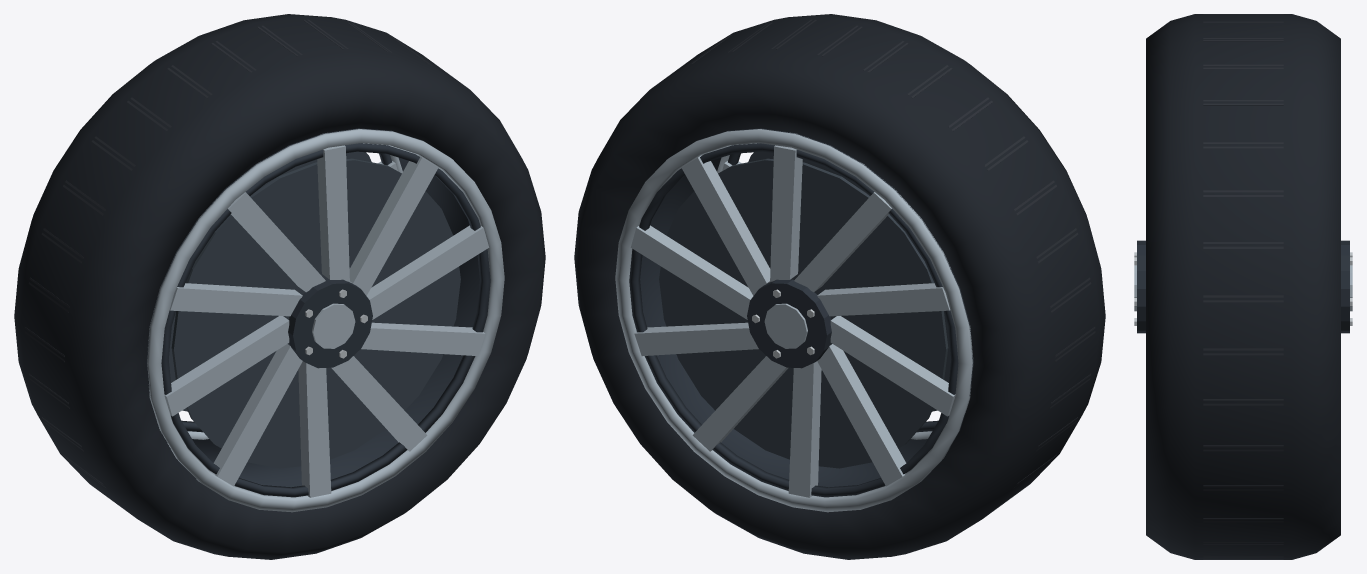
Rendered from turbine.glb.
3 renders of one model, left to right at view 1: azimuth 30°, elevation 25°; view 2: azimuth 150°, elevation 25°; view 3: azimuth 270°, elevation 25°, orthographic.
Parts seen in each view (by area): view 1: wheel; view 2: wheel; view 3: wheel.
Part boxes in pixels (<box>): wheel: <box>14,14,545,559</box>; wheel: <box>574,14,1105,559</box>; wheel: <box>1134,14,1352,559</box>.
Size of the model in its own units: 2 by 2 by 0.8.
